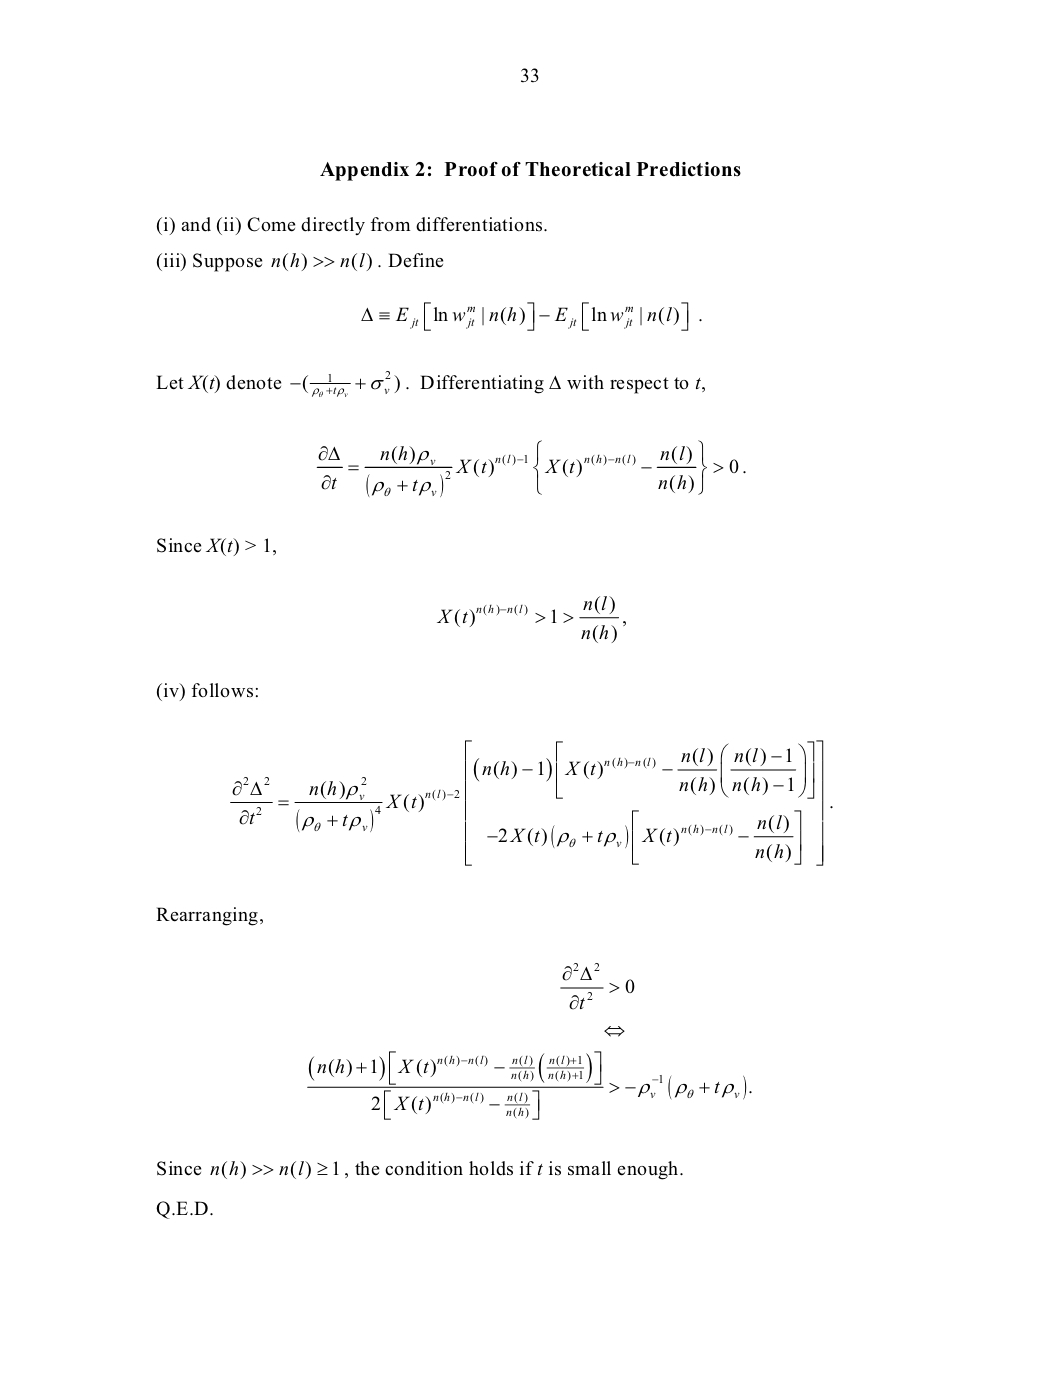formula: (230, 739, 833, 866), (306, 1050, 751, 1120), (317, 439, 744, 498), (361, 301, 701, 331), (436, 595, 625, 643), (559, 962, 634, 1010), (604, 1025, 624, 1038)
